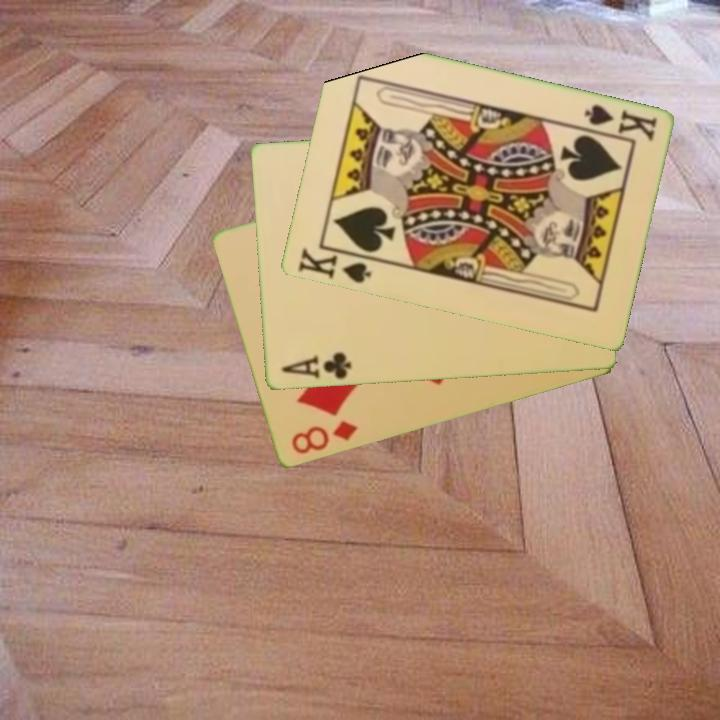8d: (287, 417, 360, 458)
Ac: (277, 349, 354, 383)
Ks: (580, 101, 659, 144), (294, 245, 374, 287)
